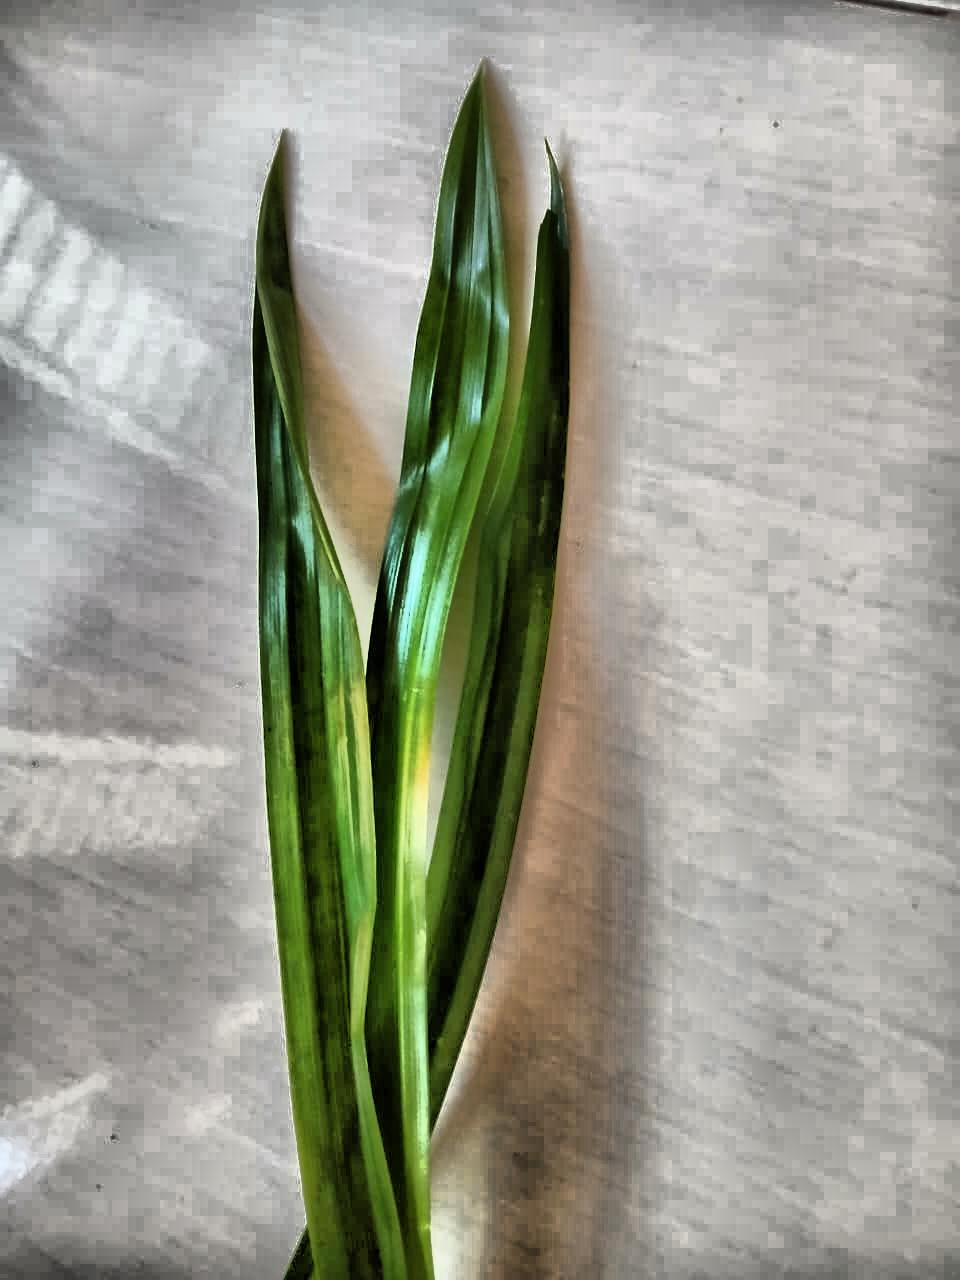daun pandan: (252, 69, 569, 1279)
